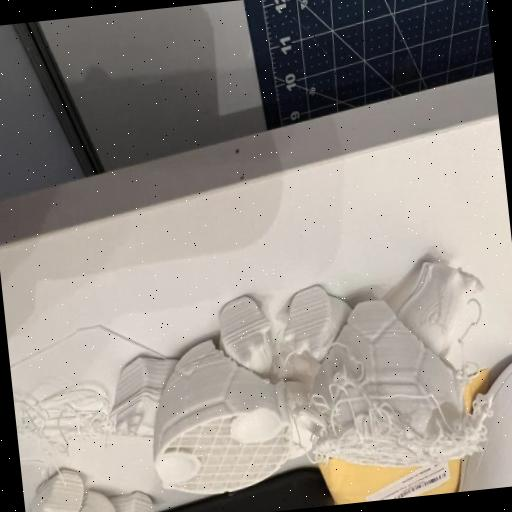spaghetti: (292, 338, 512, 487), (17, 380, 125, 478)
